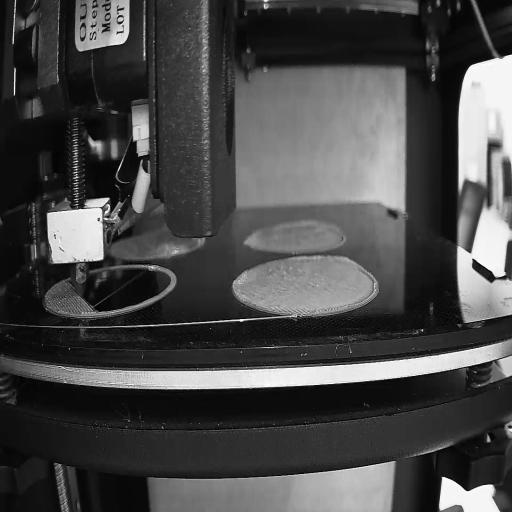over_extrusion: (358, 263, 380, 308)
